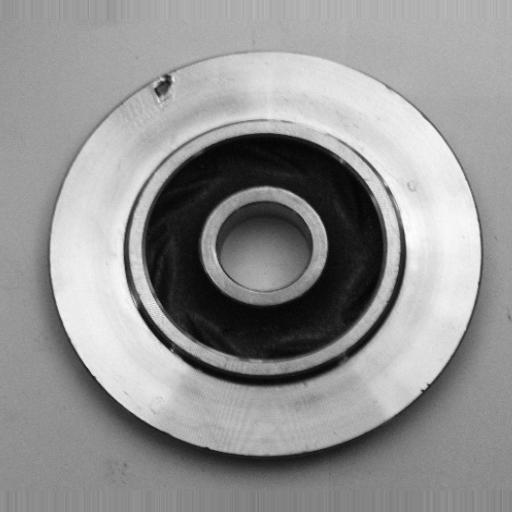crack: (142, 62, 186, 112)
unpolished_casting: (44, 48, 486, 464)
